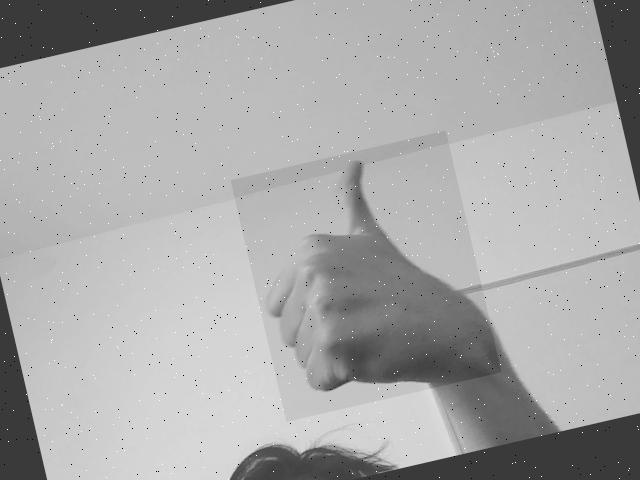good: (260, 148, 485, 396)
